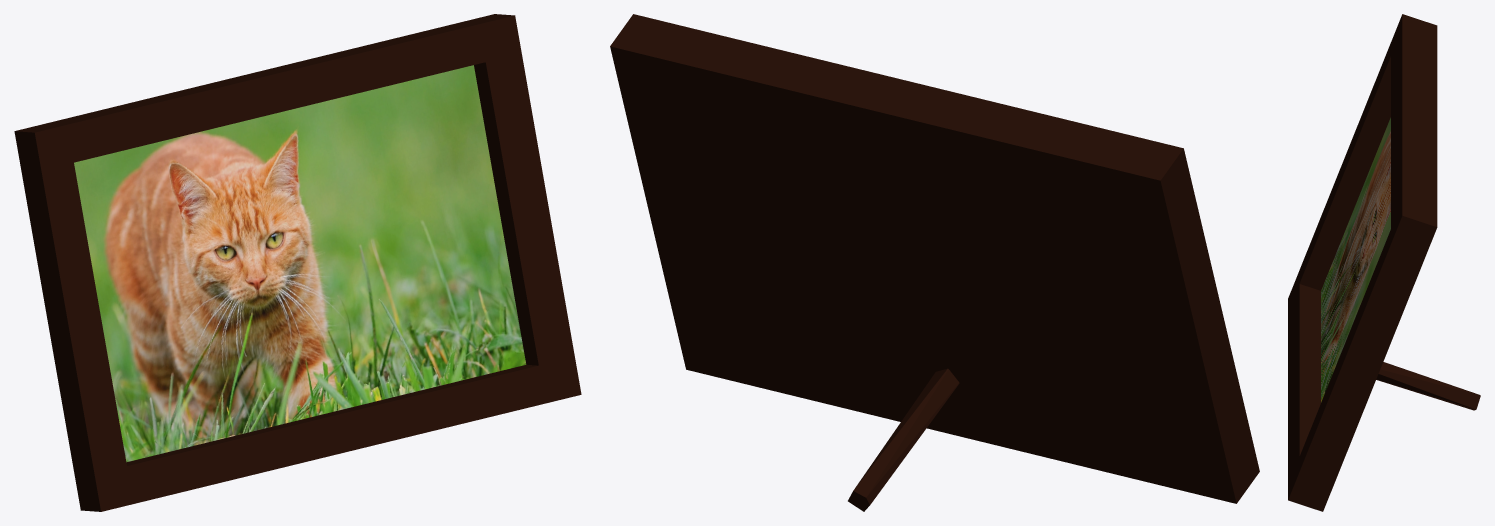
Rendered from CatastropheBruhCatStandingPicture.fbx.
3 renders of one model, left to right at view 1: azimuth 30°, elevation 25°; view 2: azimuth 150°, elevation 25°; view 3: azimuth 270°, elevation 25°, orthographic. The views are drawn at different scales.
Parts seen in each view (by area): view 1: Picture; view 2: Picture; view 3: Picture.
Boxes of the visible parts, bbox=[...] form: Picture: bbox=[14, 14, 581, 511]; Picture: bbox=[610, 14, 1259, 511]; Picture: bbox=[1288, 14, 1480, 511].
Size of the model in its own units: 200 by 137 by 80.76.
